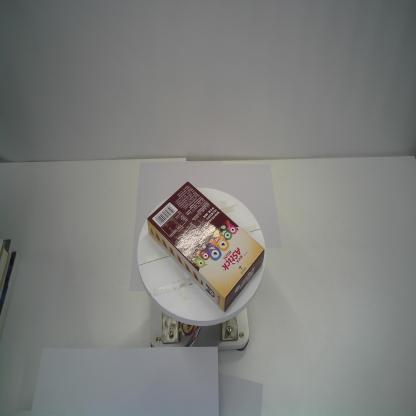Dessert: (145, 178, 266, 314)
